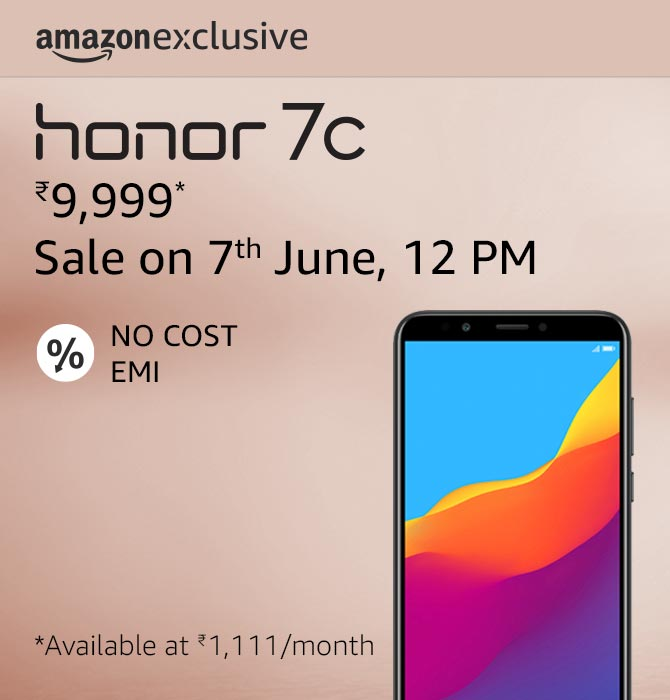mobile: (379, 311, 634, 700)
